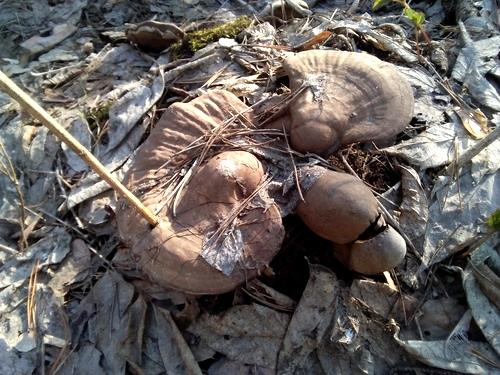Ganoderma - Fruit Body: (117, 89, 283, 294), (286, 45, 414, 150), (296, 164, 406, 274)
